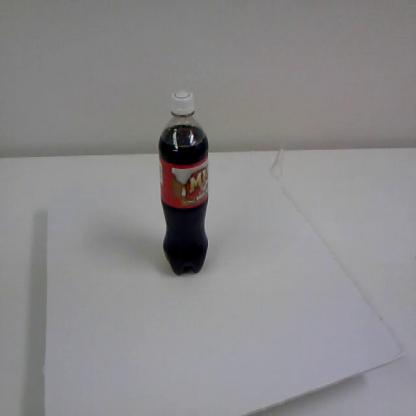bottle: (156, 88, 210, 278)
